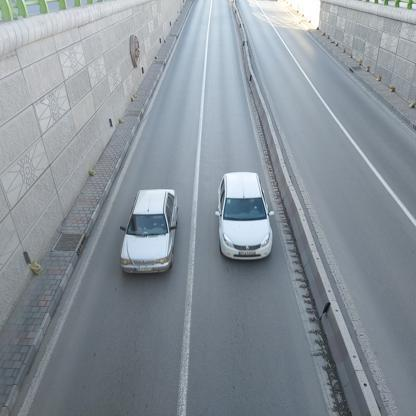Car: (216, 171, 276, 266), (122, 182, 180, 280)
